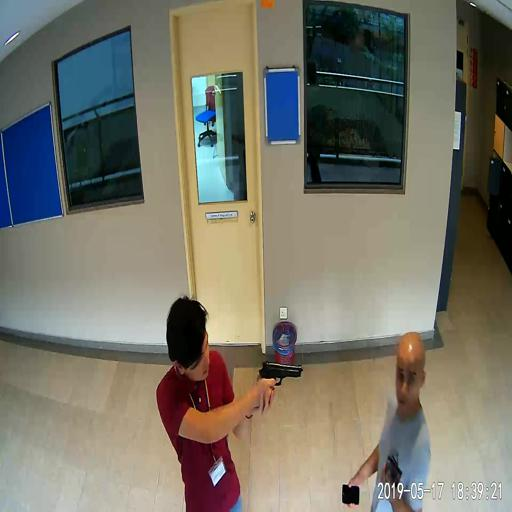pistol: (258, 361, 302, 404)
